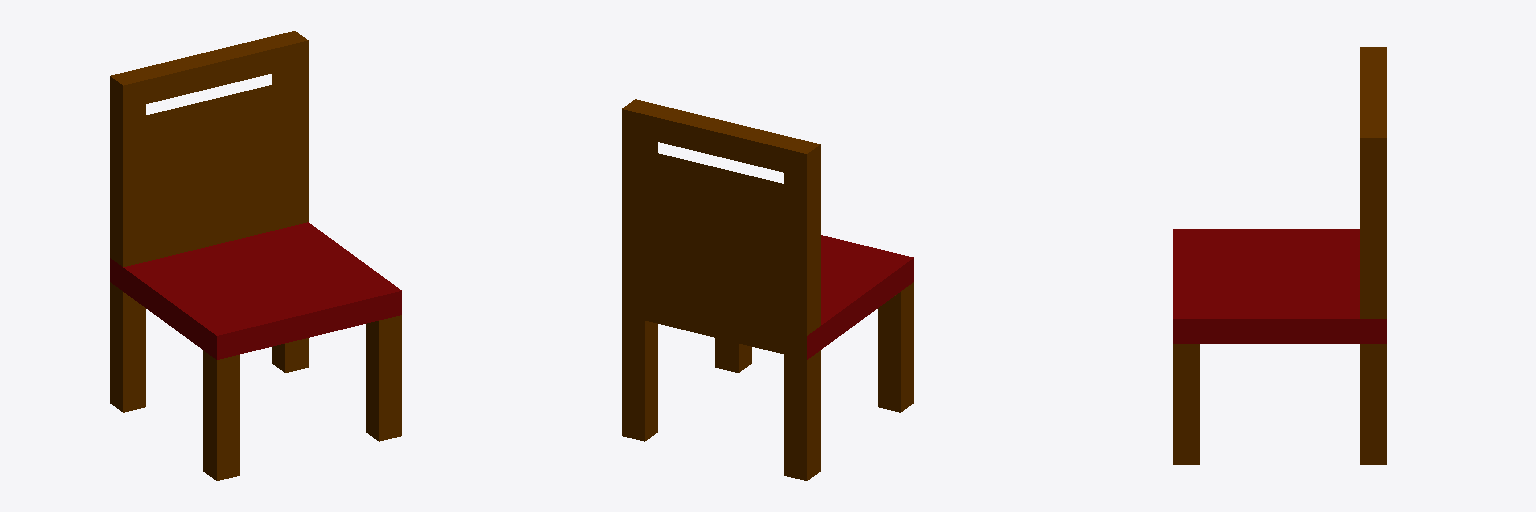
3 views of the same model, side by side, from view 1: azimuth 30°, elevation 25°; view 2: azimuth 150°, elevation 25°; view 3: azimuth 270°, elevation 25° (orthographic).
Visible parts, largest first — view 1: cube, leg; view 2: cube, leg; view 3: cube, leg.
Part boxes in pixels (left/top/right/bottom): cube: left=110, top=31, right=401, bottom=359; leg: left=110, top=282, right=401, bottom=480; cube: left=622, top=99, right=913, bottom=359; leg: left=622, top=282, right=913, bottom=480; cube: left=1173, top=47, right=1386, bottom=343; leg: left=1173, top=344, right=1386, bottom=464.
Bounding box in the file's own units: 1 × 1.69 × 1.
Materials: 1 (1 with a texture image).